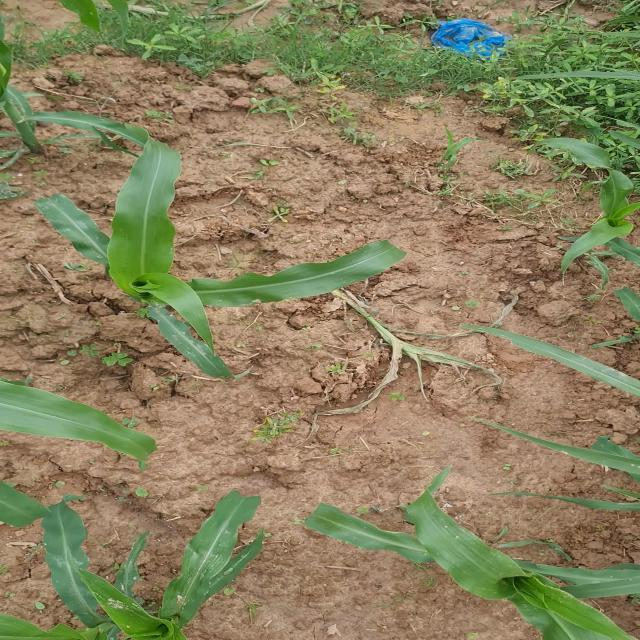maize: (0, 151, 401, 375), (303, 448, 640, 634), (0, 494, 268, 640), (527, 144, 640, 292)
weed: (3, 3, 553, 109), (453, 0, 640, 118), (231, 410, 311, 452)
